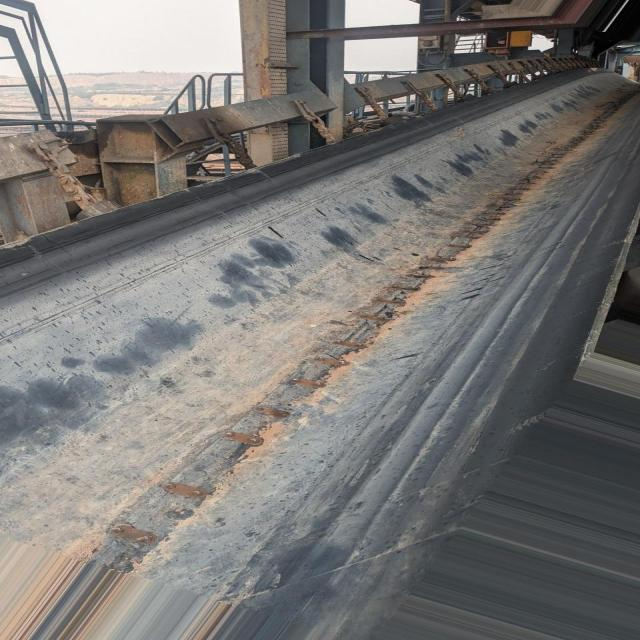patch work: (83, 84, 636, 567)
